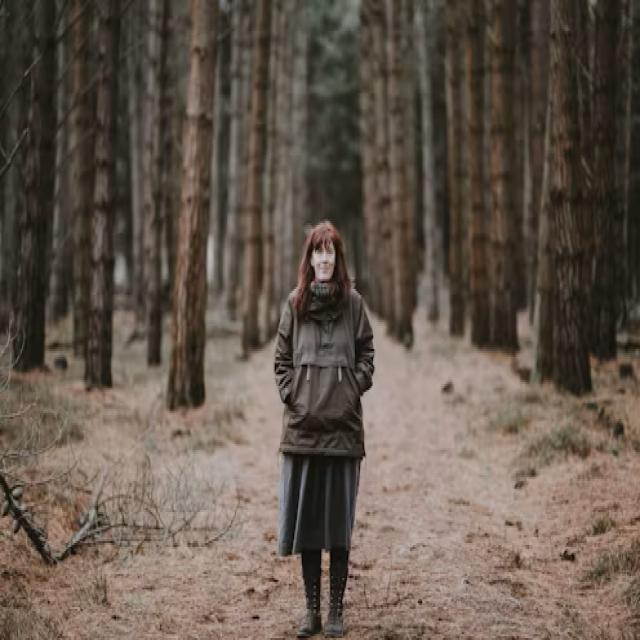Edited images: (260, 204, 390, 638)
